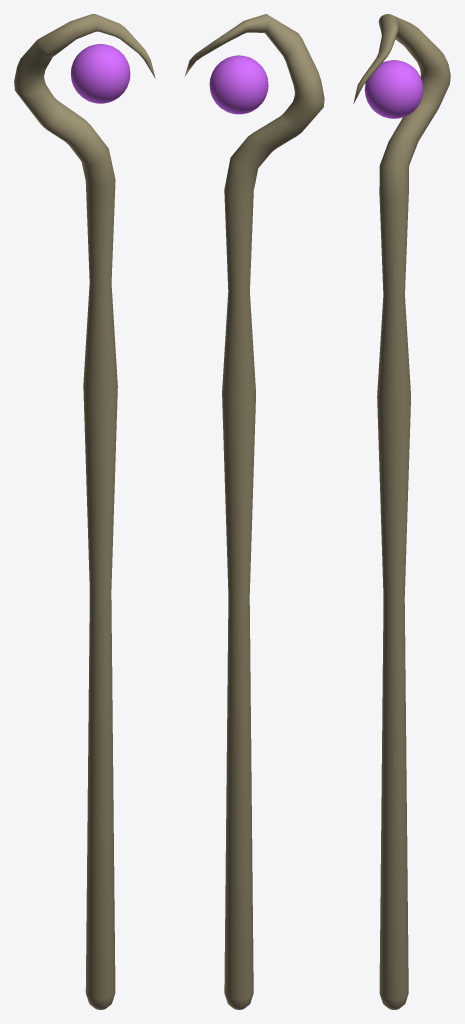
The model's file is MOD_MageStaff.fbx.
The picture shows the model from 3 angles, left to right: view 1: azimuth 30°, elevation 25°; view 2: azimuth 210°, elevation 25°; view 3: azimuth 270°, elevation 25°; orthographic projection.
Parts seen in each view (by area): view 1: Cylinder; view 2: Cylinder; view 3: Cylinder.
Part boxes in pixels (x1,y1,x2,y2): Cylinder: (14, 14, 155, 1009); Cylinder: (184, 14, 324, 1009); Cylinder: (353, 14, 450, 1009).
Size of the model in its own units: 1.13 by 11.03 by 0.9959.
